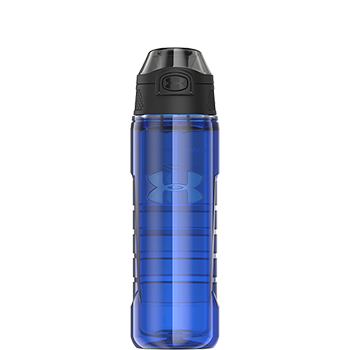Rec_Plastic: (109, 42, 224, 348)
